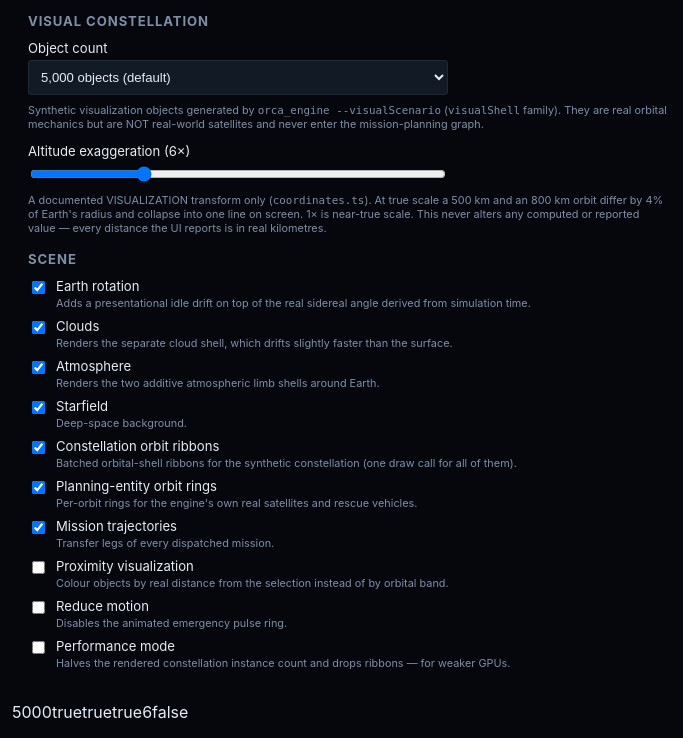
Test: SettingsPage (Phase 12: every control is real) › scene toggles flip their real backing values
Expected: the text with test id "clouds" reads "true", x1=52 y1=702 x2=82 y2=722
Click the text "Clouds". click: (254, 334)
box: x1=56 y1=318 x2=453 y2=350
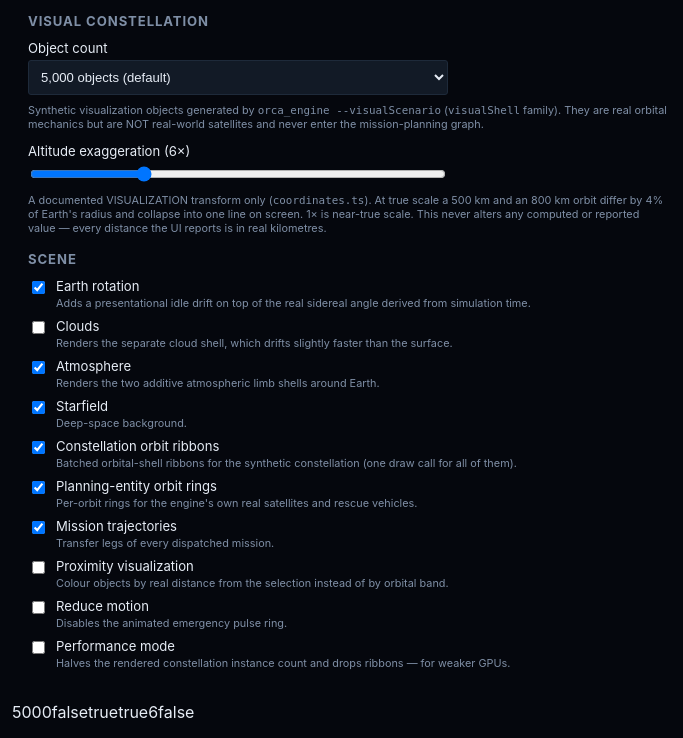
Expected: the text with test id "rotation" reads "true", x1=88 y1=702 x2=118 y2=722
Expected: the text with test id "clouds" reads "false", x1=52 y1=702 x2=88 y2=722
Click the text "Earth rotation". click: (293, 294)
box: x1=56 y1=278 x2=531 y2=310
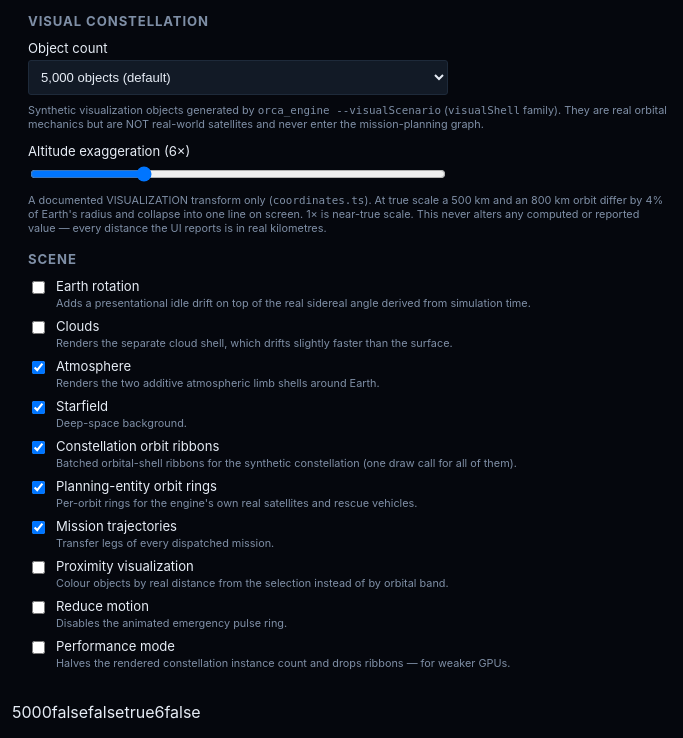
Expected: the text with test id "perf" reads "false", x1=164 y1=702 x2=201 y2=722
Expected: the text with test id "rotation" reads "false", x1=88 y1=702 x2=124 y2=722
Click the text "Performance mode". click: (283, 654)
box: x1=56 y1=638 x2=510 y2=670
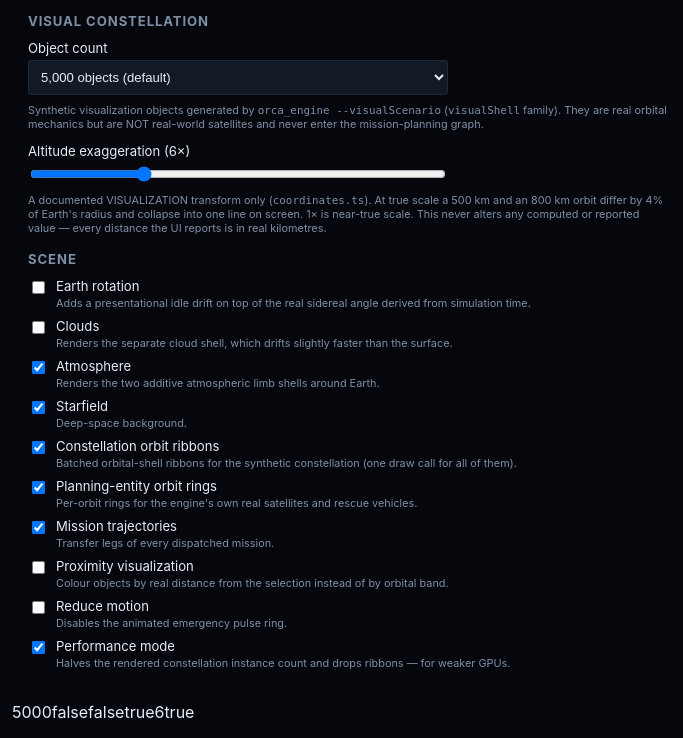
Expected: the text with test id "perf" reads "true", x1=164 y1=702 x2=194 y2=722
